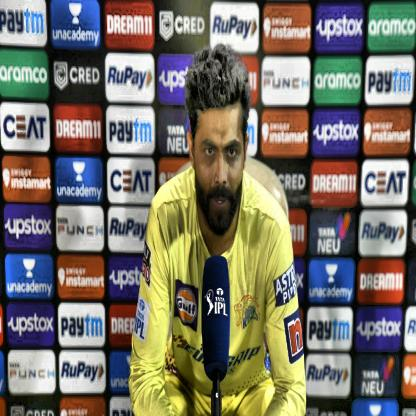Aramco: (1, 64, 48, 82)
CRED: (175, 13, 206, 35), (70, 65, 100, 87), (53, 60, 68, 92), (159, 10, 174, 41)
Ceat: (4, 114, 45, 139)
Dream11: (310, 171, 358, 197), (107, 14, 152, 36), (56, 120, 101, 139)
IPL: (204, 289, 214, 318), (133, 317, 144, 339), (215, 303, 228, 318)
Paytm: (0, 2, 44, 39), (59, 311, 103, 343), (368, 68, 412, 97), (310, 314, 352, 343), (110, 121, 152, 145)
Rupay: (213, 14, 257, 41), (360, 219, 404, 246), (108, 66, 152, 92), (61, 360, 104, 383)
Swiggy: (65, 266, 85, 277), (58, 266, 66, 287)
TATA: (139, 299, 147, 311), (216, 287, 224, 297), (215, 296, 225, 303)
Unacademy: (56, 182, 103, 202), (53, 27, 100, 46), (7, 282, 53, 299), (21, 257, 37, 281), (73, 160, 87, 183), (69, 2, 82, 25)
Upstox: (317, 12, 364, 43), (5, 215, 53, 238)
